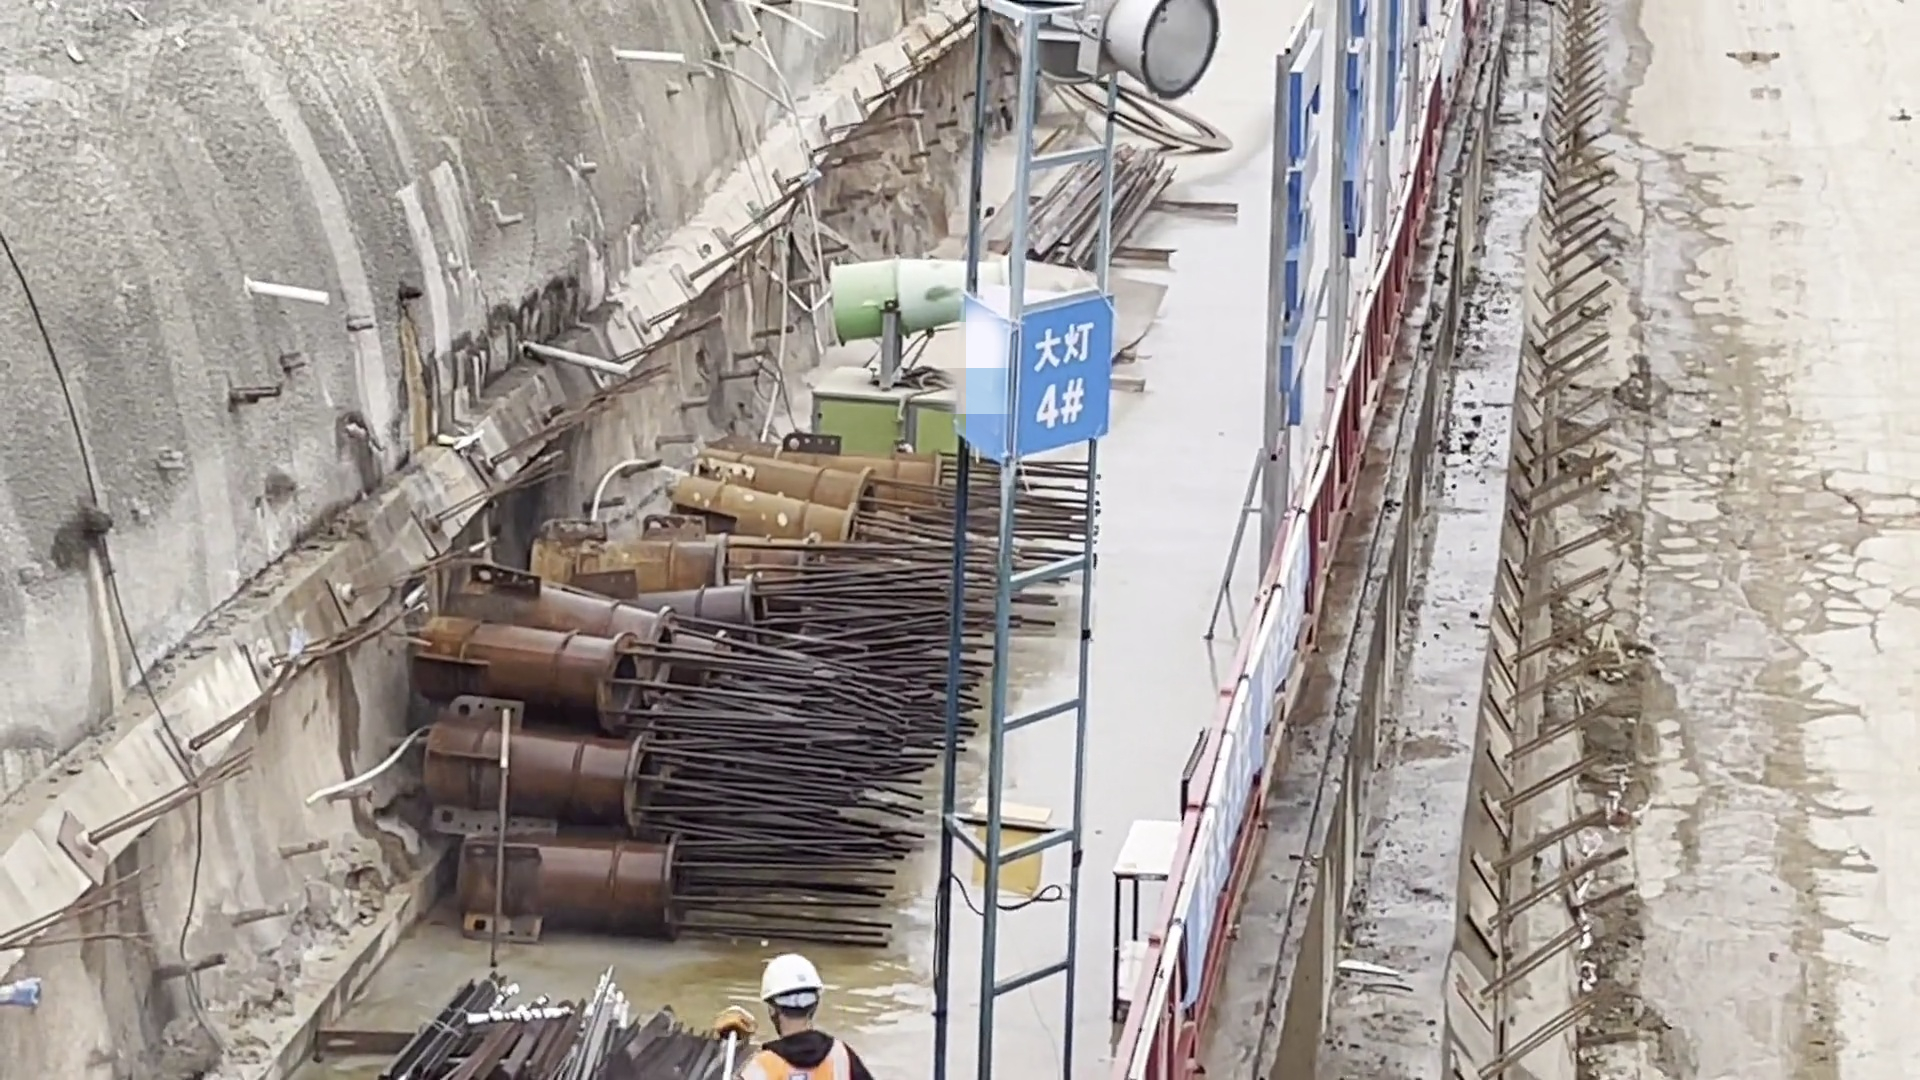ebox: (949, 784, 1067, 911)
fence: (1104, 795, 1237, 1080), (1208, 496, 1299, 807), (1310, 214, 1400, 501), (1403, 3, 1483, 241)
helmet: (751, 946, 836, 1023)
person: (729, 942, 884, 1080)
slogan: (1167, 493, 1331, 1022), (929, 295, 1148, 499)
vest: (734, 1023, 861, 1080)
